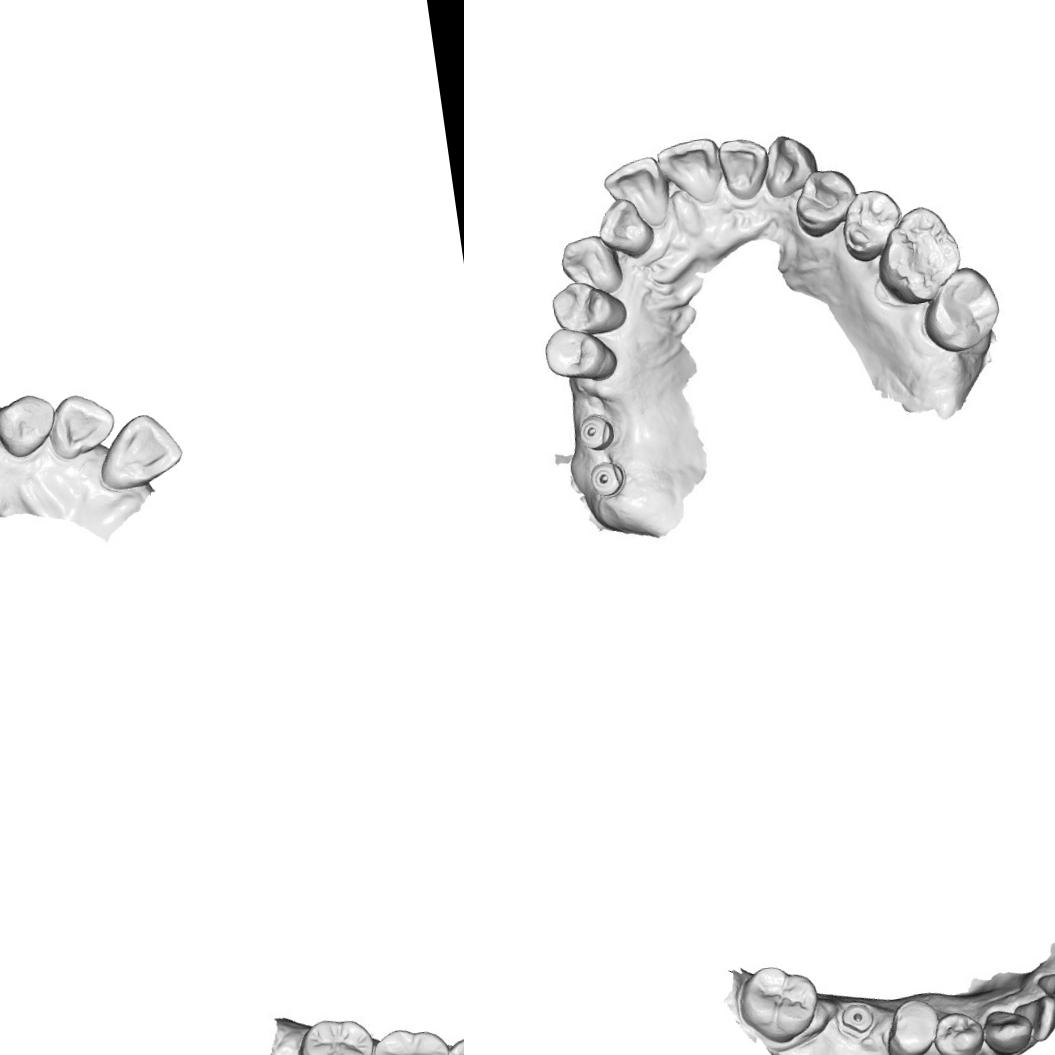canine: (554, 228, 631, 302), (0, 385, 63, 462), (752, 130, 817, 202), (979, 1005, 1036, 1055)
implant: (836, 999, 878, 1041), (575, 410, 613, 450), (587, 459, 625, 495)
incisor: (90, 407, 188, 494), (44, 387, 122, 462), (658, 136, 728, 214), (606, 158, 674, 234), (716, 139, 771, 206), (598, 201, 650, 256), (1013, 993, 1055, 1045), (1035, 964, 1055, 1009)
molar: (734, 958, 824, 1049), (880, 210, 963, 302), (928, 268, 1000, 350), (294, 1014, 374, 1055), (372, 1022, 450, 1055)
premolar: (830, 187, 904, 263), (793, 170, 860, 242), (880, 995, 945, 1055), (550, 278, 621, 332), (544, 327, 606, 379), (929, 1008, 987, 1055)
